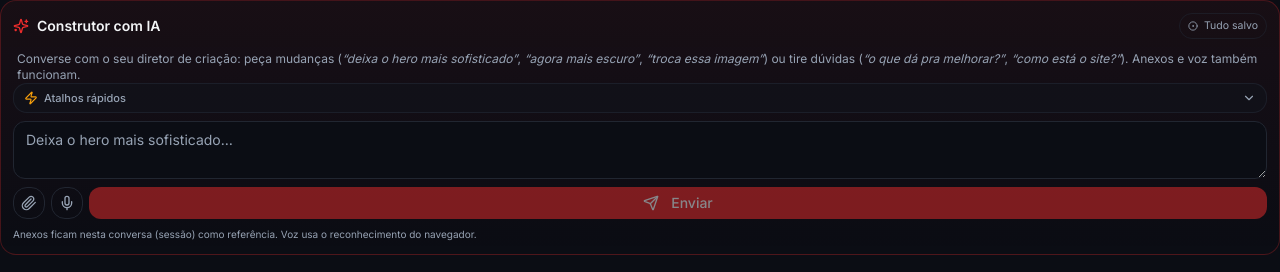
Scenario: Gravador de voz do chat — só transcreve ao PARAR e UMA vez (silêncio não finaliza) › 7) erro temporário (no-speech) continua gravando e não insere parcial
The width and height of the screenshot is (1280, 272).
Click the button titled "Gravar com voz" at (67, 203), box top-left (51, 187), bottom-right (83, 219)
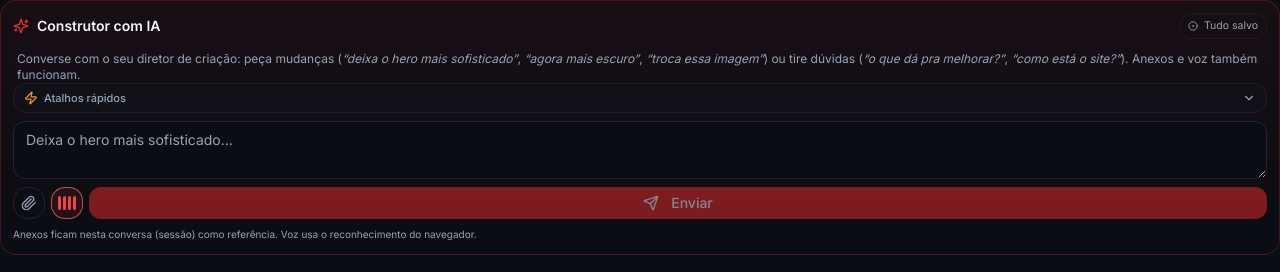
Check: the text box with placeholder "Deixa o hero mais sofisticado…" is empty, box top-left (13, 121), bottom-right (1267, 179)
Click the button titled "Parar gravação" at (67, 203), box top-left (51, 187), bottom-right (83, 219)
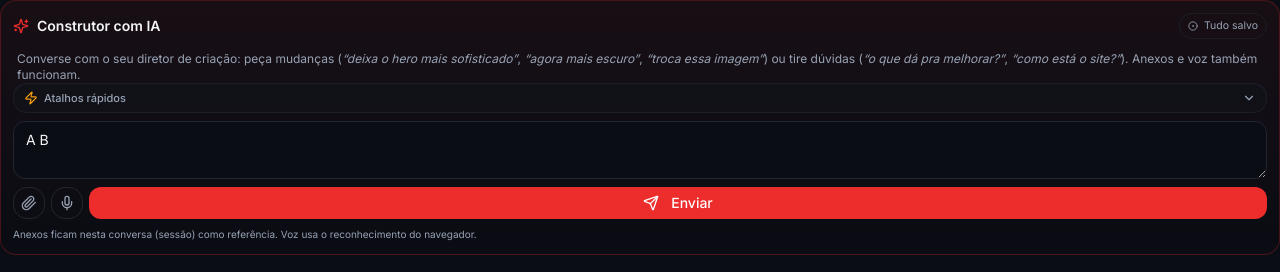
Check: the text box with placeholder "Deixa o hero mais sofisticado…" holds "A B", box top-left (13, 121), bottom-right (1267, 179)
